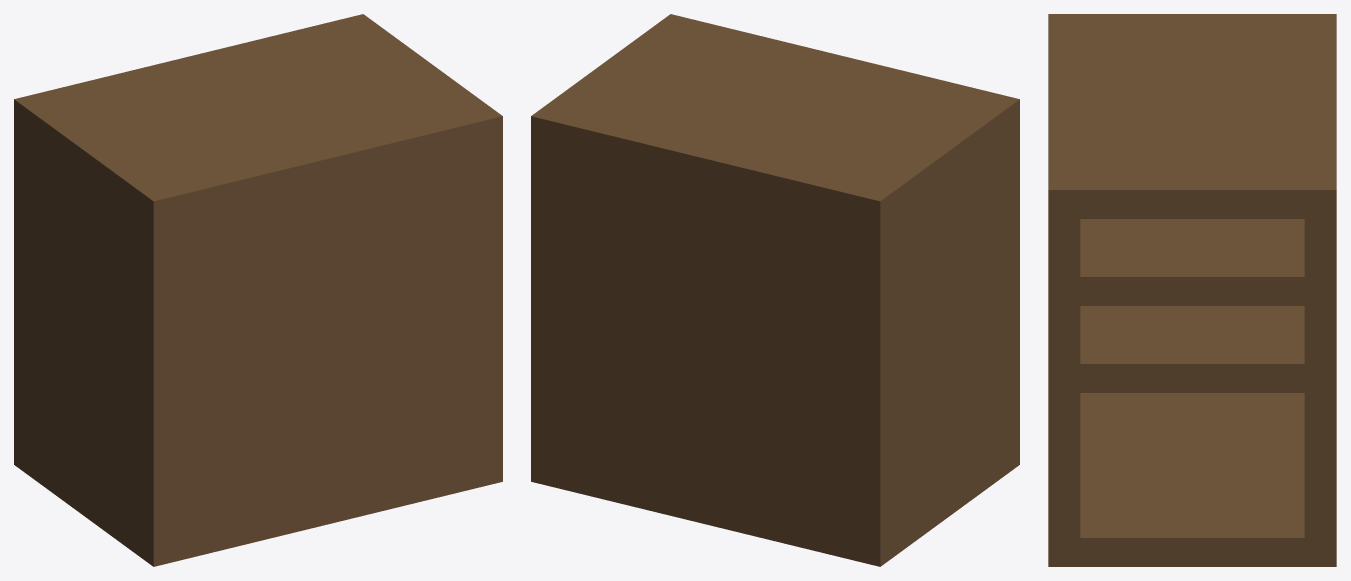
The model's file is Cabinet00-frame.gltf.
3 views of the same model, side by side, from view 1: azimuth 30°, elevation 25°; view 2: azimuth 150°, elevation 25°; view 3: azimuth 270°, elevation 25° (orthographic). The views are drawn at different scales.
Visible parts, largest first — view 1: Layer.1; view 2: Layer.1; view 3: Layer.1.
Part boxes in pixels (<box>): Layer.1: <box>14,14,502,566</box>; Layer.1: <box>531,14,1019,566</box>; Layer.1: <box>1048,14,1336,566</box>.
Size of the model in its own units: 13 by 13 by 9.
